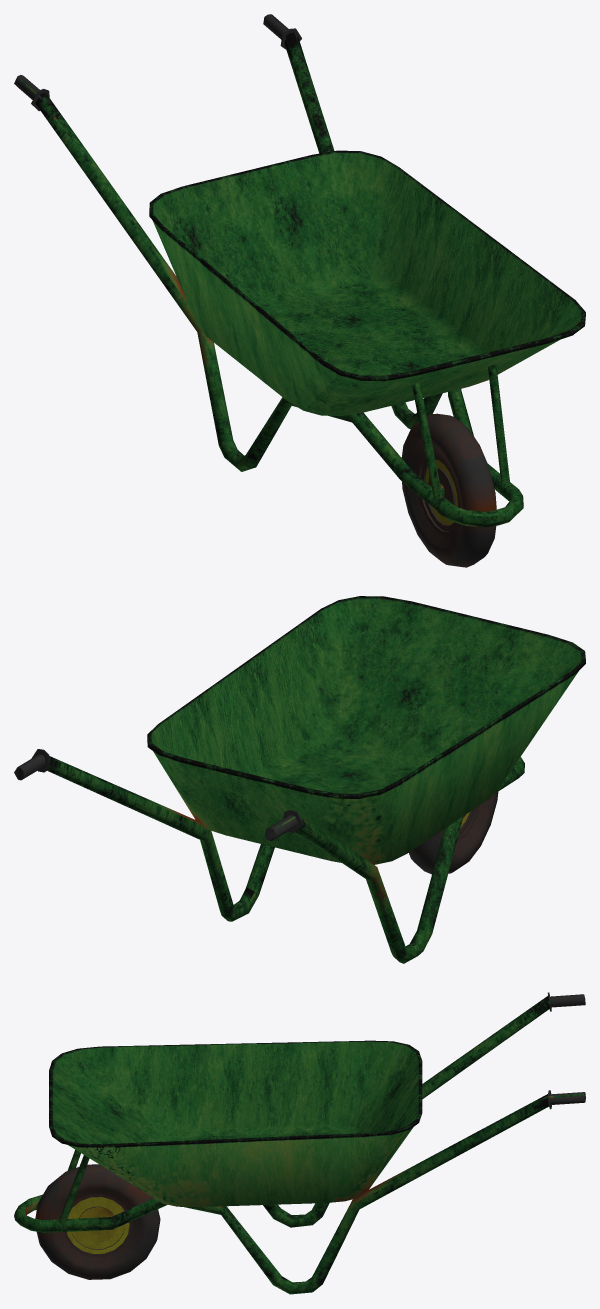
The model's file is carrinho_de_mao.glb.
The picture shows the model from 3 angles, top to bottom: view 1: azimuth 30°, elevation 25°; view 2: azimuth 150°, elevation 25°; view 3: azimuth 270°, elevation 25°; orthographic projection. The views are drawn at different scales.
Parts seen in each view (by area): view 1: wheelbarrow_obj; view 2: wheelbarrow_obj; view 3: wheelbarrow_obj.
Part boxes in pixels (x1=…): wheelbarrow_obj: x1=14, y1=14, x2=585, y2=567; wheelbarrow_obj: x1=14, y1=596, x2=585, y2=963; wheelbarrow_obj: x1=14, y1=992, x2=585, y2=1294.
Bounding box in the file's own units: 0.4217 × 0.44 × 0.9663.
3 materials, 3 textured.
